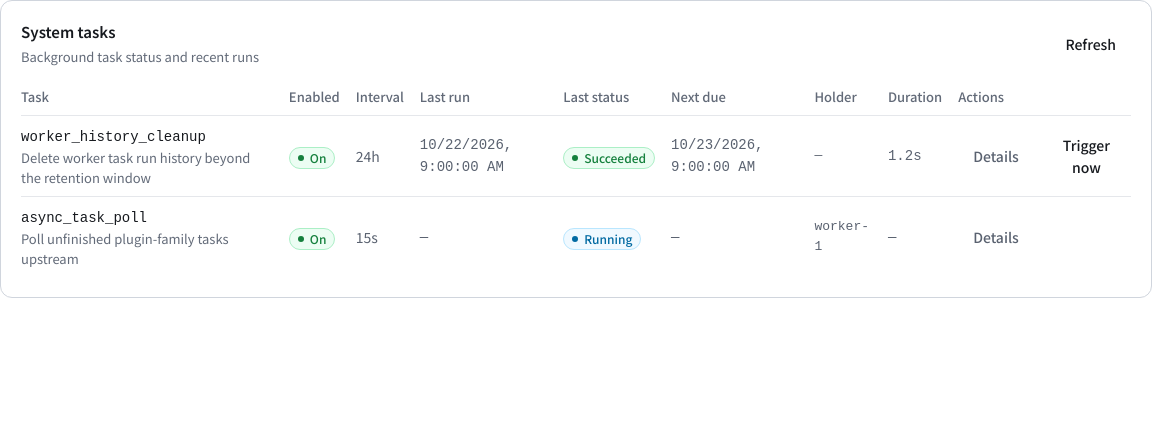
SystemTasksCard › expands a task and shows recent runs
Expected: the button "worker_history_cleanup" is shown, [21, 126, 206, 148]
What coordinates should you click on to do the following:
click the button "Details" in the row of "24h"
I would click on:
 (996, 156)
Its box is [958, 138, 1034, 174].
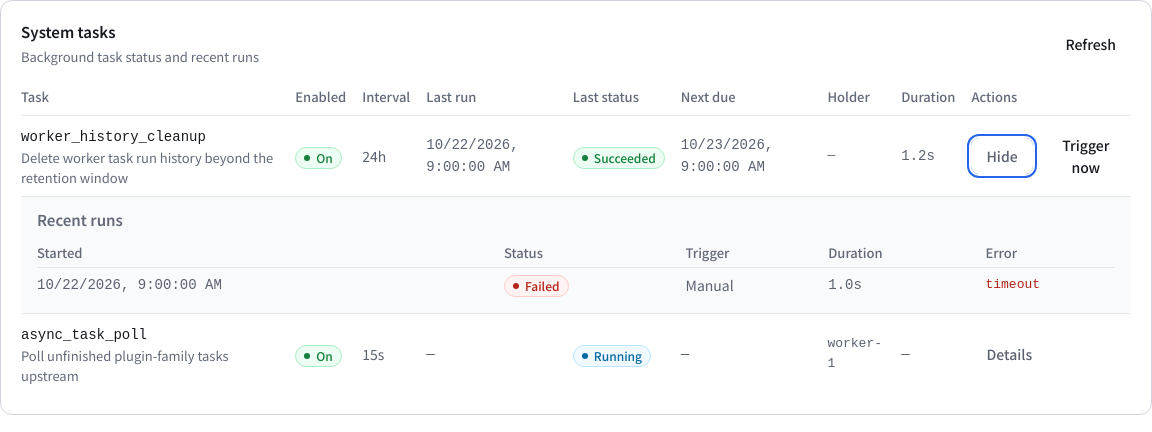
Expected: the heading "Recent runs" is shown, [37, 209, 123, 230]
Expected: the text "timeout" is shown, [985, 268, 1115, 301]
Expected: the text "Manual" is shown, [686, 268, 828, 301]
